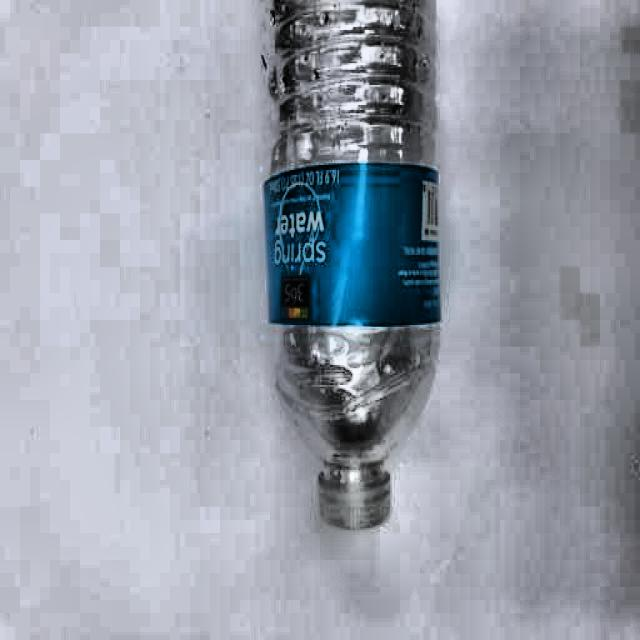plastic: (253, 0, 442, 532)
